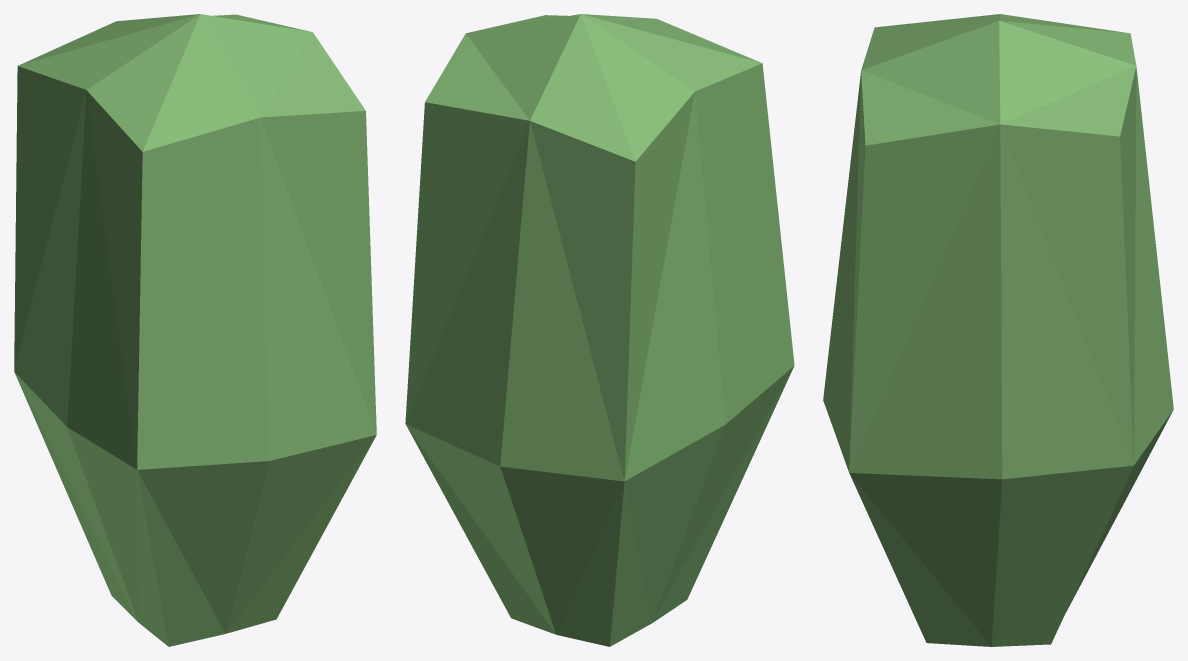
File: shrub3.dae
3 views of the same model, side by side, from view 1: azimuth 30°, elevation 25°; view 2: azimuth 150°, elevation 25°; view 3: azimuth 270°, elevation 25° (orthographic). The views are drawn at different scales.
Visible parts, largest first — view 1: mesh; view 2: mesh; view 3: mesh.
Part boxes in pixels (bbox=[...]): mesh: bbox=[14, 14, 376, 646]; mesh: bbox=[405, 14, 794, 646]; mesh: bbox=[823, 14, 1173, 646].
Size of the model in its own units: 0.9313 by 1.02 by 1.93.
